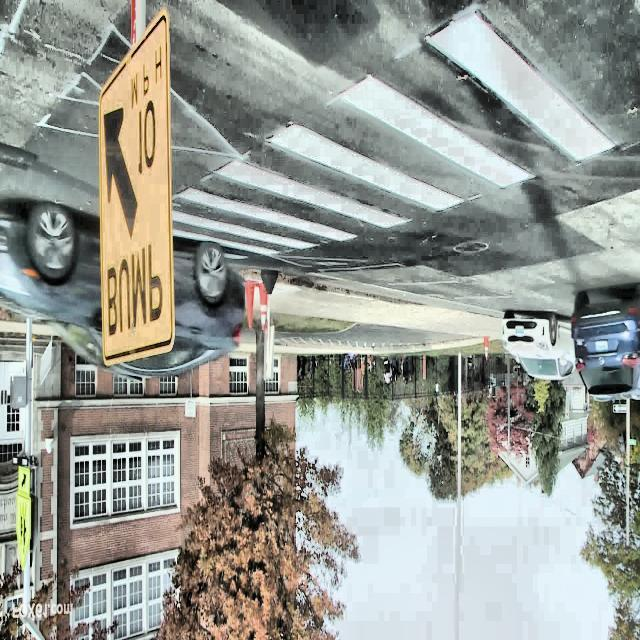crosswalk: (171, 9, 618, 257)
